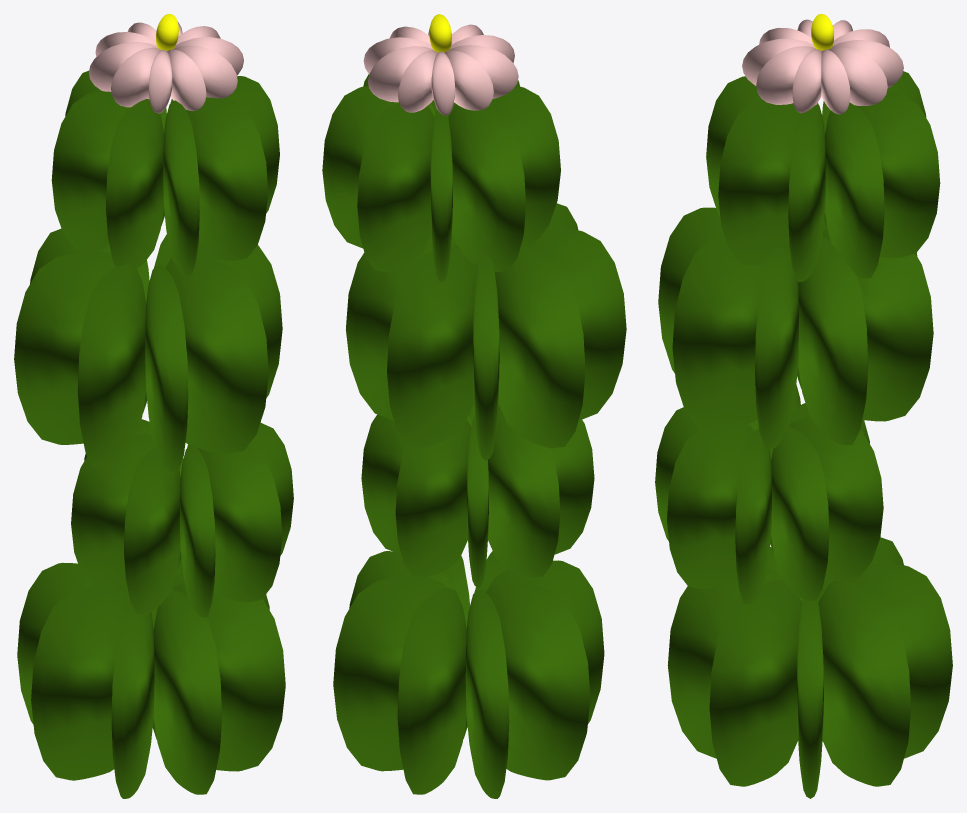
Rendered from Cactus+2.fbx.
3 views of the same model, side by side, from view 1: azimuth 30°, elevation 25°; view 2: azimuth 150°, elevation 25°; view 3: azimuth 270°, elevation 25° (orthographic). The views are drawn at different scales.
Parts seen in each view (by area): view 1: chamfer25, chamfer3, chamfer23, chamfer24, chamfer6, chamfer5, chamfer35, chamfer15, chamfer33, chamfer34, chamfer14, chamfer26 (+18 smaller); view 2: chamfer3, chamfer23, chamfer22, chamfer7, chamfer2, chamfer32, chamfer33, chamfer13, chamfer12, chamfer24, chamfer1, chamfer27 (+19 smaller); view 3: chamfer7, chamfer5, chamfer25, chamfer27, chamfer15, chamfer35, chamfer22, chamfer32, chamfer2, chamfer37, chamfer17, chamfer12 (+19 smaller).
Part boxes in pixels (x1,y1,x2,y2): chamfer25: (166, 257, 268, 453); chamfer3: (31, 586, 129, 780); chamfer23: (14, 251, 115, 444); chamfer24: (77, 263, 146, 468); chamfer6: (153, 589, 221, 794); chamfer5: (174, 582, 285, 771); chamfer35: (186, 97, 268, 260); chamfer15: (197, 445, 282, 602); chamfer33: (51, 91, 130, 252); chamfer34: (106, 99, 163, 268); chamfer14: (124, 448, 180, 614); chamfer26: (145, 265, 188, 472); chamfer3: (487, 580, 590, 780); chamfer23: (495, 245, 585, 448); chamfer22: (387, 244, 477, 448); chamfer7: (333, 576, 445, 771); chamfer2: (397, 587, 466, 794); chamfer32: (357, 103, 434, 271); chamfer33: (448, 104, 525, 271); chamfer13: (488, 409, 560, 577); chamfer12: (395, 420, 471, 577); chamfer24: (526, 229, 626, 420); chamfer1: (465, 589, 509, 798); chamfer27: (346, 234, 456, 420); chamfer7: (818, 580, 910, 786); chamfer5: (709, 579, 801, 786); chamfer25: (672, 234, 764, 428); chamfer27: (798, 236, 868, 445); chamfer15: (667, 421, 753, 588); chamfer35: (718, 99, 800, 265); chamfer22: (822, 229, 933, 421); chamfer32: (855, 91, 940, 257); chamfer2: (832, 564, 952, 758); chamfer37: (825, 102, 884, 278); chamfer17: (771, 426, 829, 600); chamfer12: (789, 416, 883, 581).
Size of the model in its own units: 964 by 2748 by 982.
